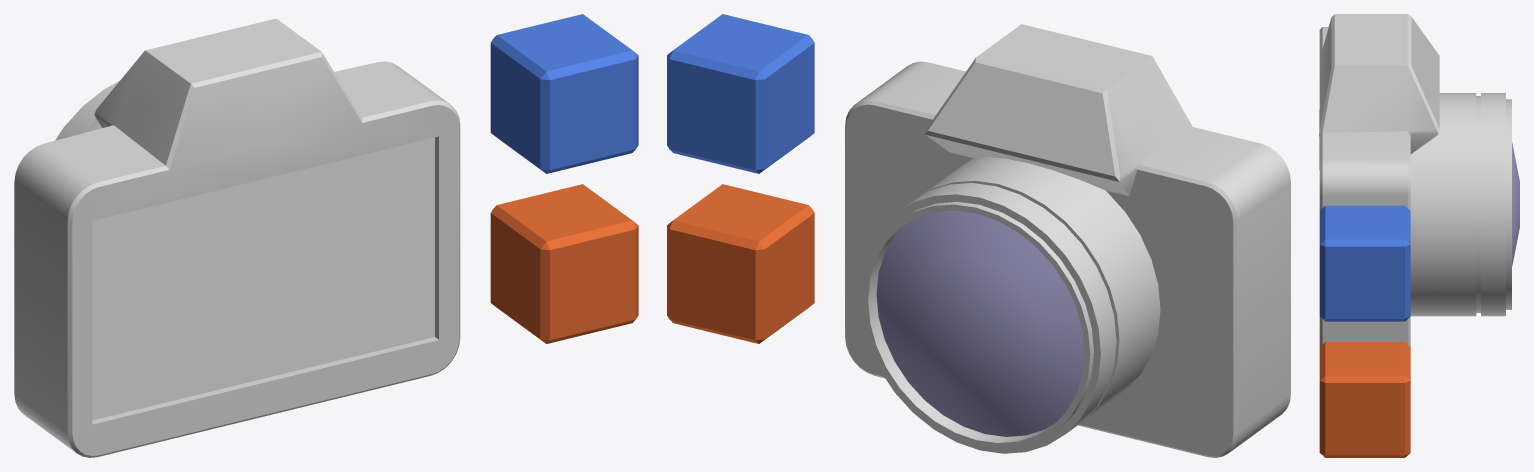
The model's file is camera.fbx.
The picture shows the model from 3 angles, left to right: view 1: azimuth 30°, elevation 25°; view 2: azimuth 150°, elevation 25°; view 3: azimuth 270°, elevation 25°; orthographic projection. The views are drawn at different scales.
Visible parts, largest first — view 1: Body, Display, ButtonWide, ButtonTele, Lens; view 2: Body, Lens, ButtonTele, ButtonWide; view 3: Body, Lens, ButtonTele, ButtonWide.
Boxes of the visible parts, x1,y1,x2,y2 form: Body: (14,18,460,457); Display: (92,137,434,420); ButtonWide: (490,184,638,343); ButtonTele: (490,14,638,173); Lens: (55,80,119,140); Body: (845,24,1290,457); Lens: (859,157,1160,453); ButtonTele: (667,14,814,173); ButtonWide: (667,184,814,343); Body: (1319,14,1439,346); Lens: (1410,93,1519,316); ButtonTele: (1319,205,1410,321); ButtonWide: (1319,342,1410,457).
Bounding box in the file's own units: 35.01 × 20.05 × 13.26.
